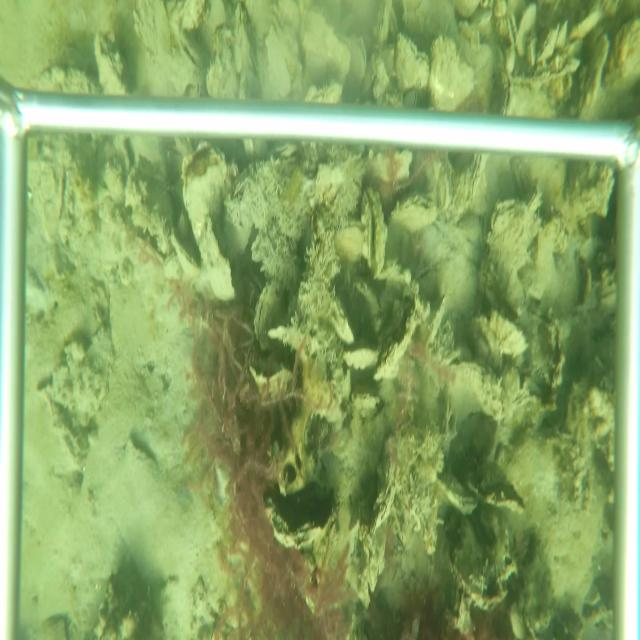Oyster-Closed: (450, 152, 490, 223), (395, 30, 428, 94), (94, 34, 130, 92), (390, 194, 436, 237), (435, 475, 481, 512), (252, 279, 279, 342), (169, 228, 202, 278), (372, 467, 395, 535), (374, 0, 394, 43), (176, 209, 189, 238), (526, 37, 537, 67)
Oyster-Indeterminate: (450, 364, 507, 436), (298, 9, 352, 77), (428, 37, 478, 110), (515, 2, 537, 58)
Oyster-Open: (360, 183, 388, 282), (175, 33, 207, 72), (497, 67, 515, 114), (506, 13, 518, 50)
